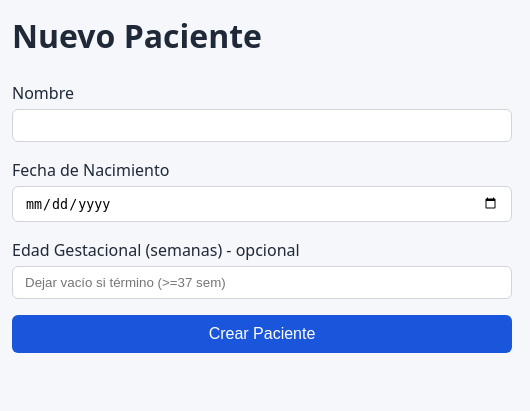
PatientCreatePage › muestra error si se envía sin fecha
In the field: (262, 126) [12,109,512,142], type "Juan"
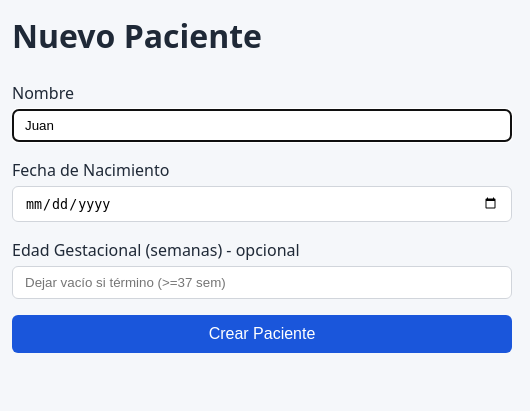
Click the button "Crear Paciente": (262, 334) [12,315,512,353]
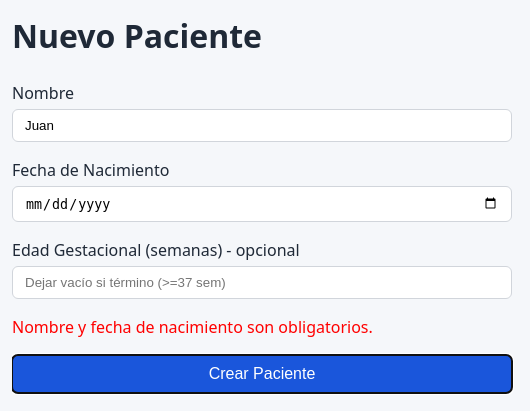
Expected: the text "Nombre y fecha de nacimiento son obligatorios." is shown, [12,316,373,338]
